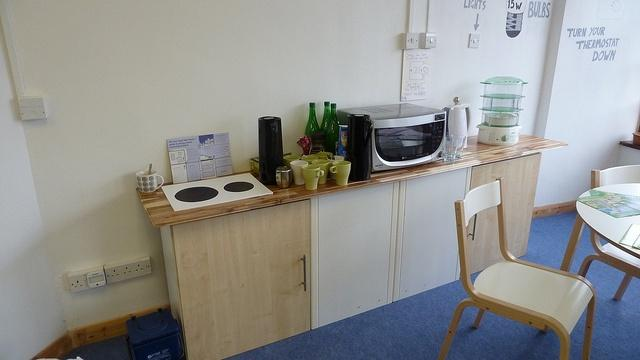Kursi: (435, 176, 596, 359)
